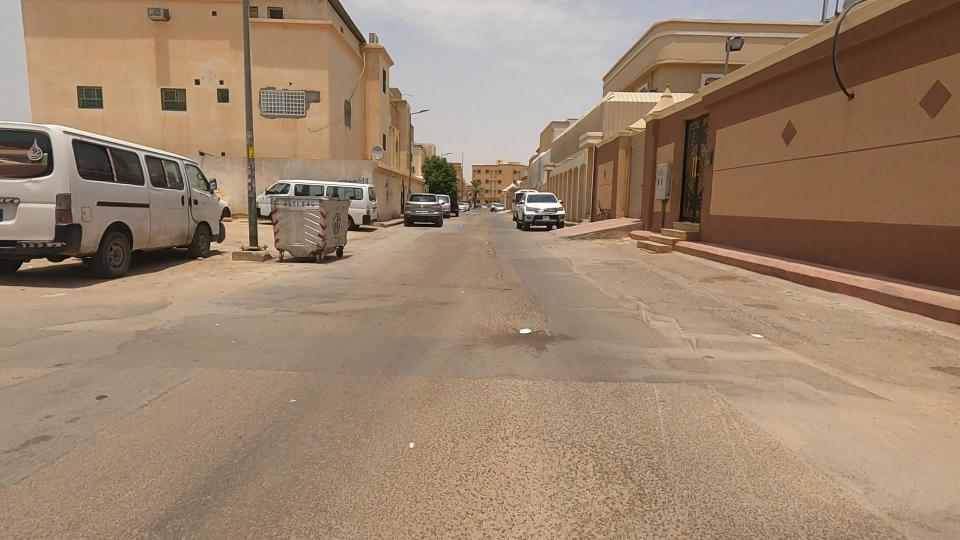FADED_SIGNAGE: (454, 202, 523, 289)
GARBAGE: (461, 292, 579, 369)
